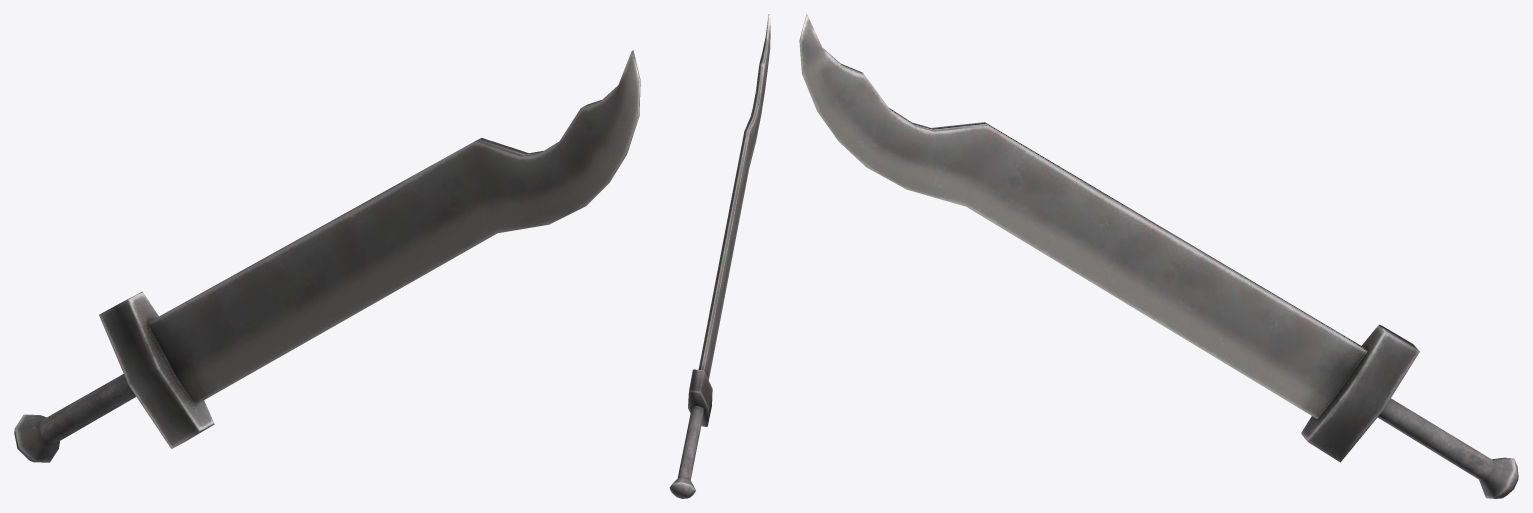
The model's file is weapon-base.glb.
3 renders of one model, left to right at view 1: azimuth 30°, elevation 25°; view 2: azimuth 150°, elevation 25°; view 3: azimuth 270°, elevation 25°, orthographic. The views are drawn at different scales.
Size of the model in its own units: 0.2481 by 0.6351 by 0.7197.
Materials: 1 (1 with a texture image).
